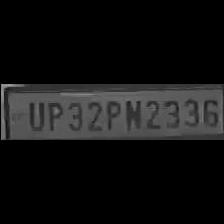2: (141, 97, 161, 130), (84, 97, 103, 131)
3: (180, 95, 200, 127), (64, 98, 82, 132), (162, 96, 180, 130)
6: (200, 95, 218, 127)
N: (121, 97, 141, 131)
P: (43, 98, 62, 132), (102, 97, 120, 131)
U: (23, 99, 43, 131)
